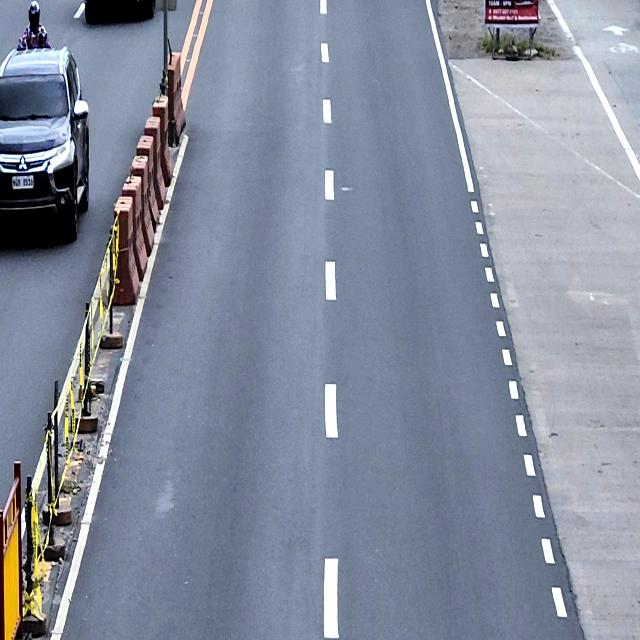Car: (0, 49, 93, 242)
License-Plate: (11, 173, 35, 190)
